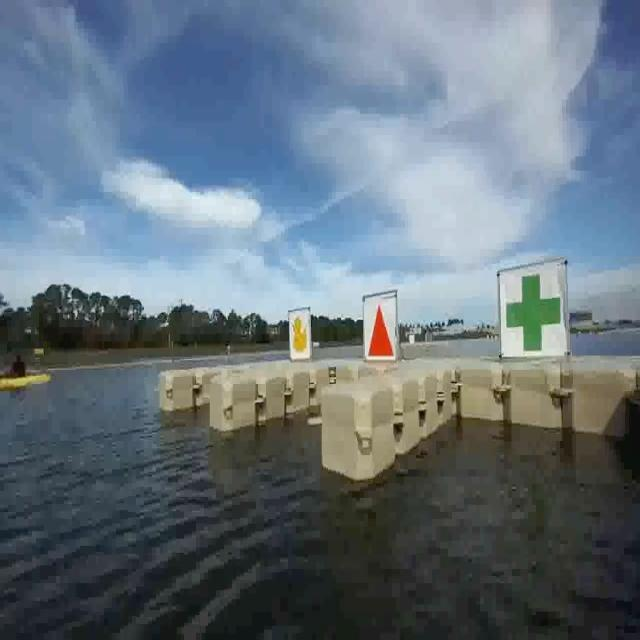blue-cross: (499, 270, 567, 360)
red-dot: (367, 302, 397, 356)
yellow-duck: (288, 311, 308, 362)
